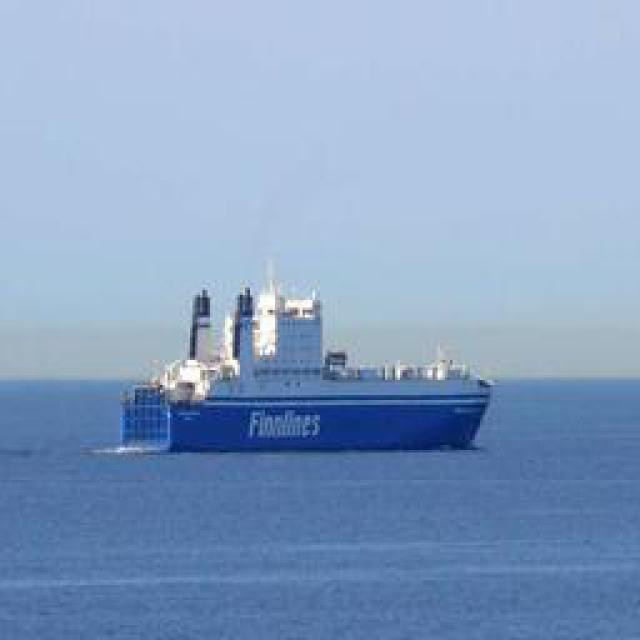Ship: (106, 261, 484, 456)
